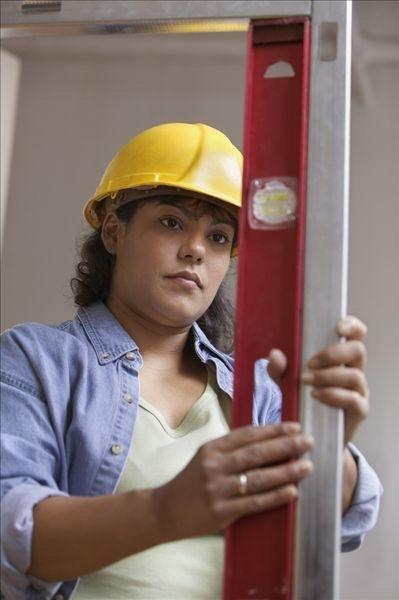helmet: (81, 124, 238, 222)
no_wear: (5, 325, 243, 600)
